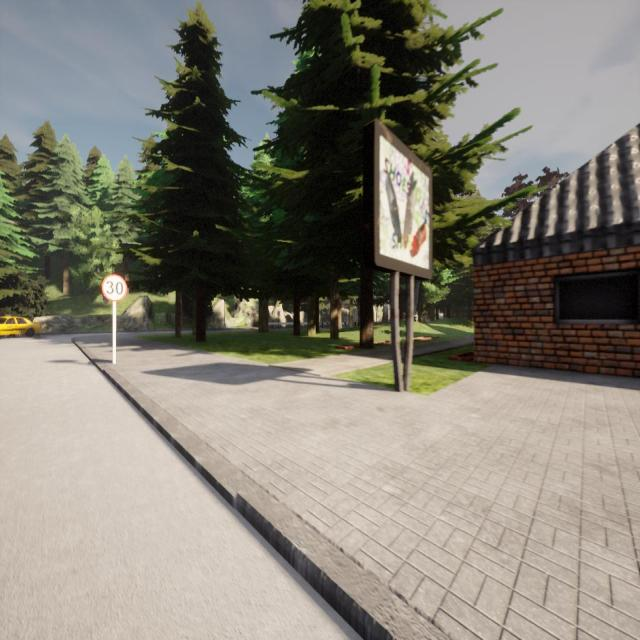Traffic_Signs: (101, 274, 128, 302)
Vehicle: (0, 315, 42, 337)
